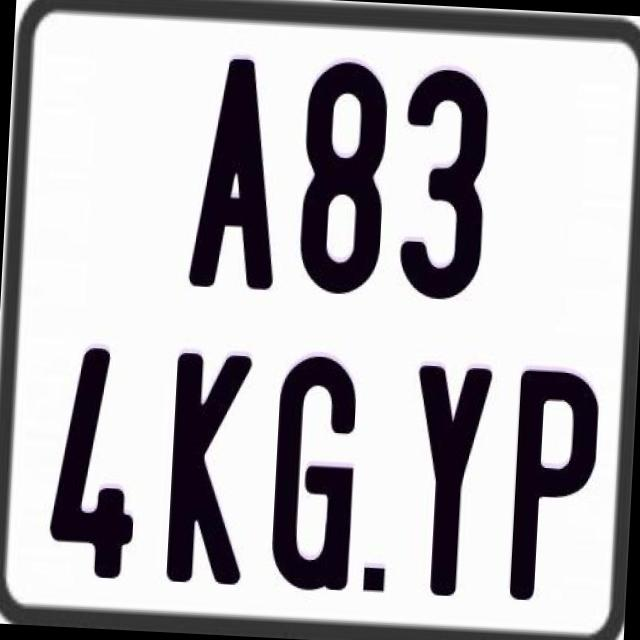3: (397, 64, 491, 296)
4: (45, 342, 147, 581)
8: (296, 57, 391, 302)
A: (188, 52, 290, 296)
G: (267, 355, 357, 599)
K: (164, 350, 254, 584)
P: (506, 368, 602, 606)
Y: (407, 362, 499, 601)
